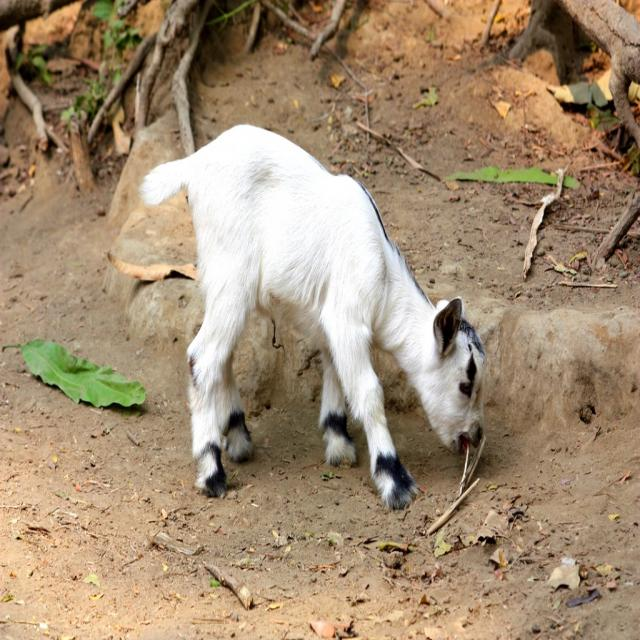Goat: (134, 122, 485, 516)
